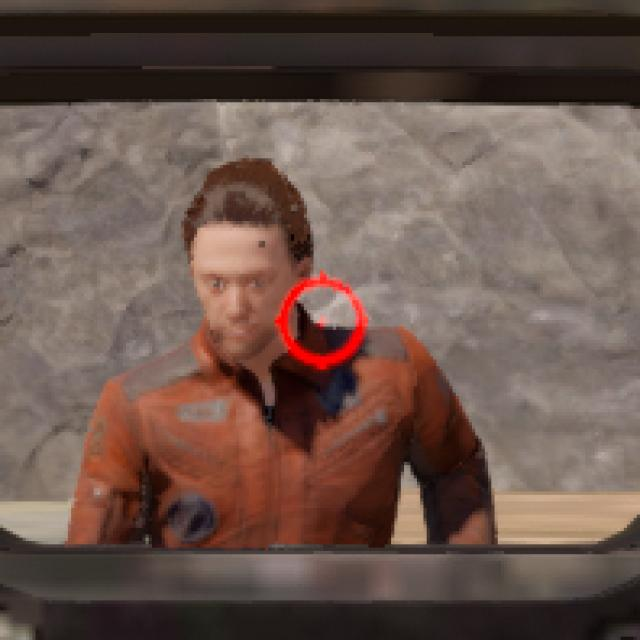Player: (66, 158, 498, 543)
